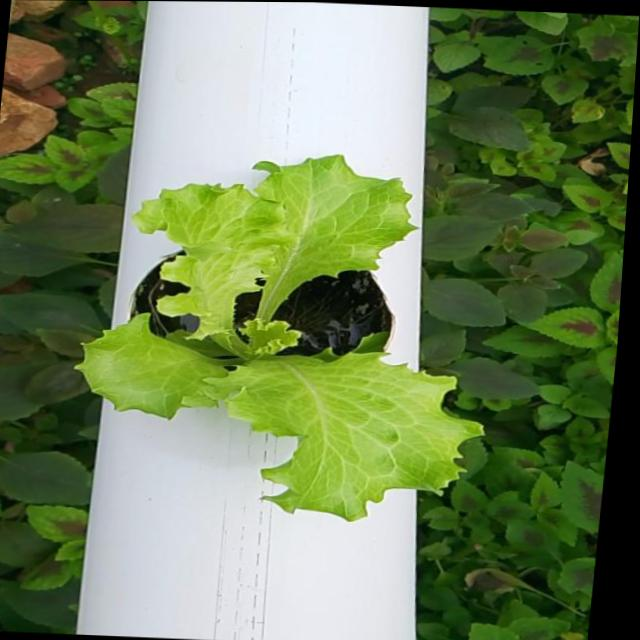Baby: (73, 155, 476, 517)
